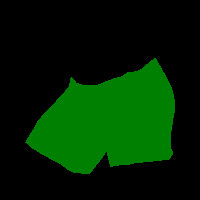mutande: (25, 57, 175, 174)
